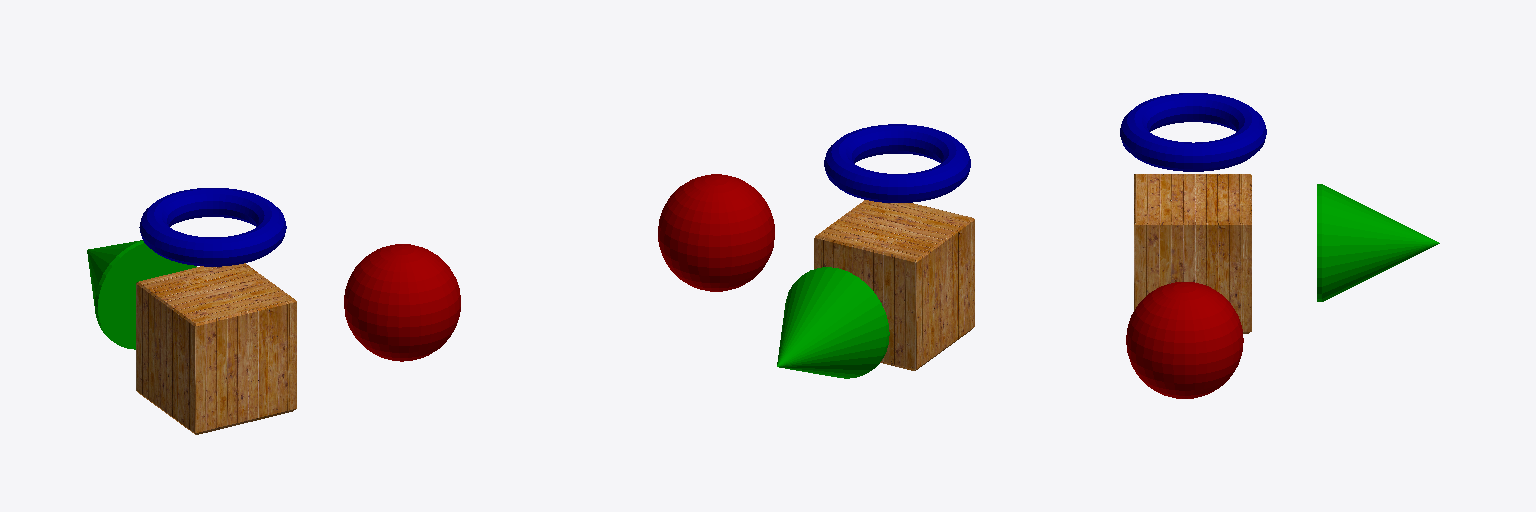
3 renders of one model, left to right at view 1: azimuth 30°, elevation 25°; view 2: azimuth 150°, elevation 25°; view 3: azimuth 270°, elevation 25°, orthographic.
Parts seen in each view (by area): view 1: Cube, Sphere, Torus, Cone; view 2: Cube, Sphere, Cone, Torus; view 3: Cube, Sphere, Torus, Cone.
Part boxes in pixels (x1,y1,x2,y2): Cube: (136,263,296,434); Sphere: (344,244,460,361); Torus: (139,188,286,266); Cone: (87,240,196,349); Cube: (814,200,974,370); Sphere: (658,174,774,291); Cone: (777,267,889,378); Torus: (824,124,970,202); Cube: (1134,174,1251,333); Sphere: (1126,282,1243,398); Torus: (1120,93,1266,171); Cone: (1317,184,1439,301).
Size of the model in its own units: 5.88 by 3.56 by 5.44.
Materials: 4 (1 with a texture image).